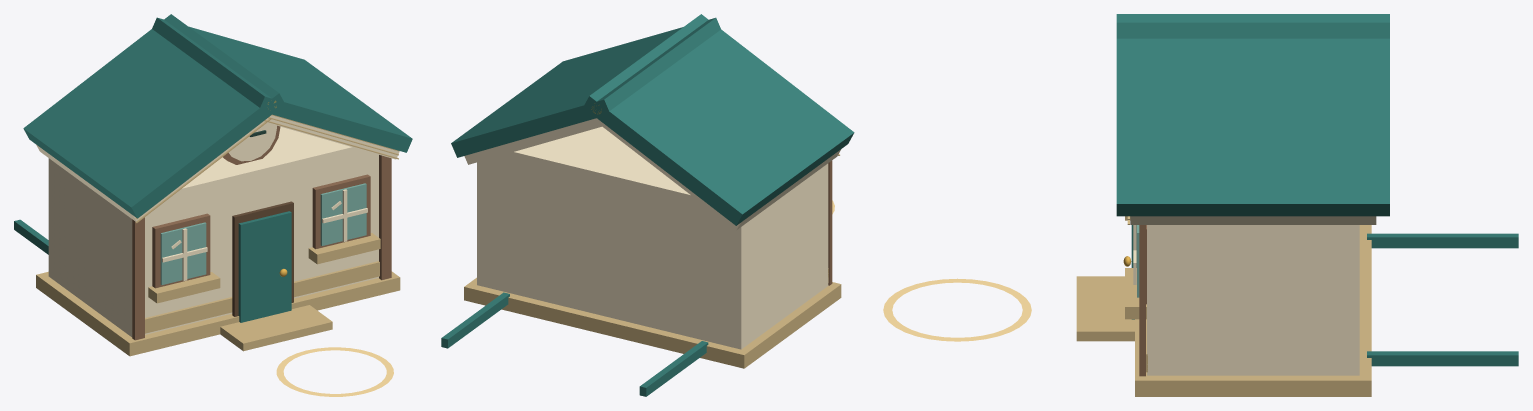
Rendered from travel-station.glb.
The picture shows the model from 3 angles, left to right: view 1: azimuth 30°, elevation 25°; view 2: azimuth 150°, elevation 25°; view 3: azimuth 270°, elevation 25°; orthographic projection. The views are drawn at different scales.
Visible parts, largest first — view 1: travel-station, door, chapter-marker; view 2: travel-station; view 3: travel-station, chapter-marker.
Part boxes in pixels (x1=…): travel-station: x1=14, y1=14, x2=412, y2=356; door: x1=238, y1=211, x2=291, y2=322; chapter-marker: x1=276, y1=347, x2=393, y2=396; travel-station: x1=441, y1=14, x2=854, y2=396; travel-station: x1=1076, y1=14, x2=1518, y2=396; chapter-marker: x1=883, y1=278, x2=1031, y2=341.
Size of the model in its own units: 2.7 by 2.15 by 4.19.
